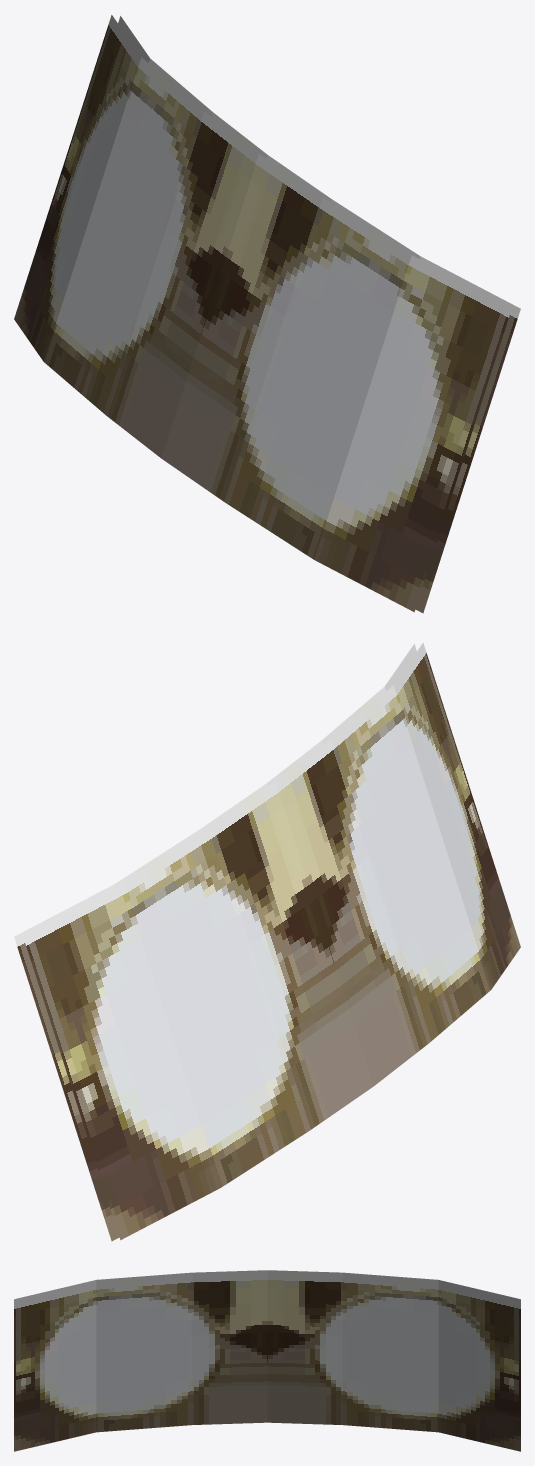
The model's file is Bison_glasses.obj.
3 renders of one model, top to bottom at view 1: azimuth 30°, elevation 25°; view 2: azimuth 150°, elevation 25°; view 3: azimuth 270°, elevation 25°, orthographic. The views are drawn at different scales.
Parts seen in each view (by area): view 1: Bison_glasses_tri; view 2: Bison_glasses_tri; view 3: Bison_glasses_tri.
Boxes of the visible parts, left/top/right/bottom form: Bison_glasses_tri: left=14, top=15, right=520, bottom=613; Bison_glasses_tri: left=14, top=643, right=520, bottom=1241; Bison_glasses_tri: left=14, top=1270, right=520, bottom=1451.
Size of the model in its own units: 0.0589 by 0.1075 by 0.2562.
Materials: 1 (1 with a texture image).
